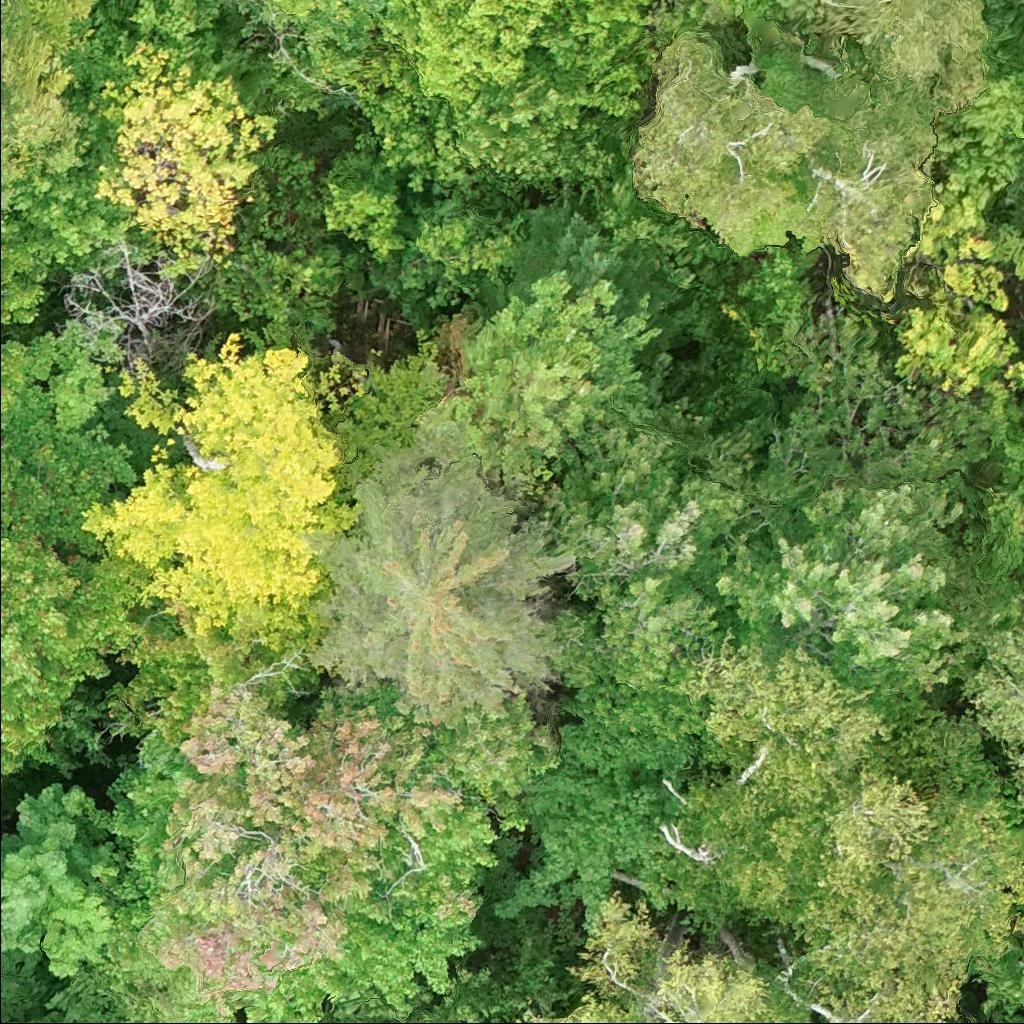crown: (41, 683, 506, 1023), (76, 332, 360, 648), (302, 418, 578, 729), (689, 421, 971, 695), (717, 764, 1023, 996), (417, 267, 668, 495), (673, 622, 898, 854), (621, 32, 850, 259), (88, 37, 282, 269), (316, 130, 526, 317), (0, 519, 145, 788), (539, 424, 746, 602), (794, 68, 948, 302), (451, 46, 652, 211), (556, 889, 793, 1023), (338, 49, 508, 212), (0, 779, 127, 979), (538, 564, 722, 694), (111, 602, 317, 716), (943, 558, 1023, 845), (800, 0, 990, 113), (507, 199, 680, 315), (0, 417, 143, 557), (426, 691, 563, 835), (0, 0, 86, 229), (376, 0, 562, 105), (873, 692, 1018, 825), (594, 162, 731, 291), (0, 318, 115, 433), (539, 0, 658, 97), (127, 0, 224, 81), (733, 245, 822, 322), (824, 975, 961, 1023), (964, 938, 1023, 1018), (715, 0, 809, 23), (256, 0, 316, 15), (0, 369, 12, 399), (0, 352, 1, 364)
